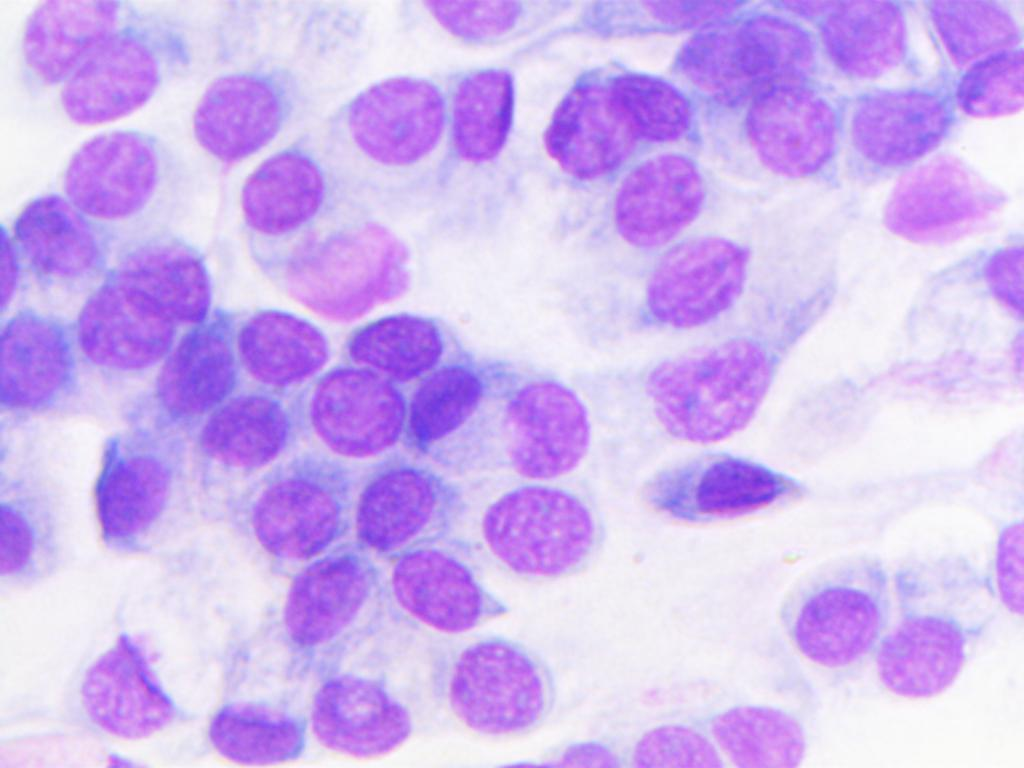artifact: (287, 224, 417, 318)
epithelial: (624, 326, 818, 444), (410, 635, 578, 739), (879, 547, 987, 708), (605, 238, 783, 320), (470, 479, 612, 576), (592, 149, 724, 253), (627, 446, 820, 516), (500, 358, 598, 482), (298, 363, 408, 465), (840, 77, 957, 169), (743, 83, 841, 191), (309, 659, 420, 754), (337, 70, 443, 169), (60, 123, 166, 221), (57, 30, 162, 128), (886, 152, 999, 242), (793, 552, 881, 667), (75, 276, 168, 384), (216, 301, 321, 386), (397, 361, 502, 446), (239, 467, 344, 552), (380, 547, 485, 632), (273, 551, 378, 636), (553, 71, 631, 181), (190, 63, 282, 156), (4, 302, 72, 426), (232, 152, 328, 237), (710, 688, 811, 767), (191, 395, 291, 472), (27, 0, 119, 82), (663, 27, 762, 103), (816, 0, 908, 81), (13, 192, 101, 276), (356, 467, 435, 552), (604, 68, 693, 143), (347, 306, 444, 373), (947, 50, 1024, 130), (409, 2, 540, 46), (738, 16, 820, 84), (924, 1, 1018, 59), (631, 727, 727, 768)
goblet_cell: (65, 565, 229, 753), (5, 430, 192, 538), (207, 591, 318, 767), (446, 49, 553, 171)
